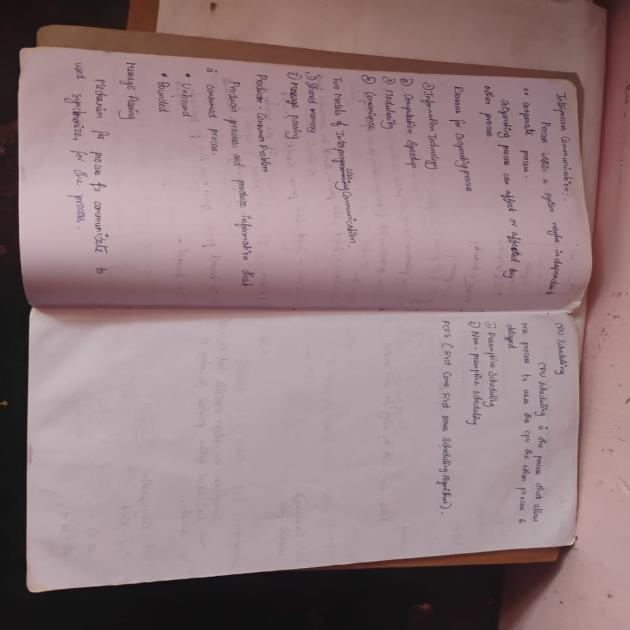notebook: (18, 23, 614, 604)
